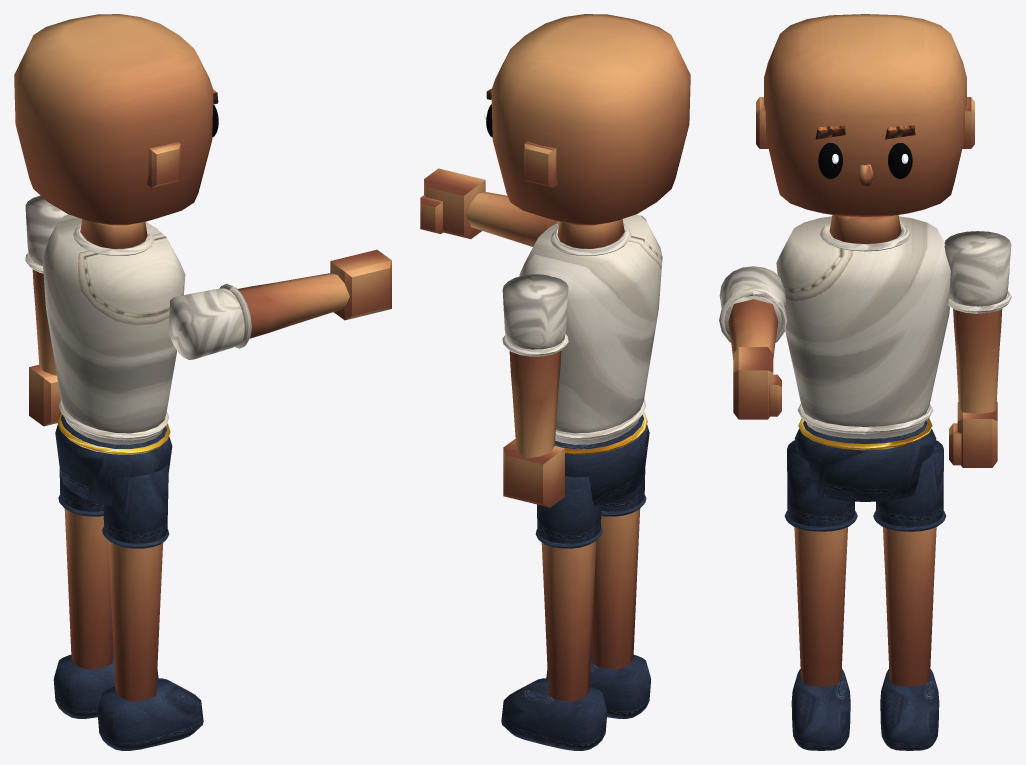
Rendered from body.glb.
3 renders of one model, left to right at view 1: azimuth 30°, elevation 25°; view 2: azimuth 150°, elevation 25°; view 3: azimuth 270°, elevation 25°, orthographic.
Parts seen in each view (by area): view 1: head, chest, leg_R, arm_R, leg_L, hips, foot_R, hand_R, arm_L, foot_L, hand_L; view 2: head, chest, leg_L, arm_L, leg_R, foot_L, hips, hand_R, hand_L, arm_R, foot_R; view 3: head, chest, leg_R, leg_L, arm_L, hips, arm_R, foot_L, foot_R, hand_R, hand_L.
Boxes of the visible parts, left/top/right/bottom form: head: left=14, top=14, right=218, bottom=225; chest: left=42, top=214, right=185, bottom=444; leg_R: left=102, top=464, right=169, bottom=701; arm_R: left=168, top=273, right=349, bottom=359; leg_L: left=58, top=469, right=113, bottom=669; hips: left=55, top=412, right=172, bottom=505; foot_R: left=97, top=678, right=203, bottom=750; hand_R: left=330, top=249, right=391, bottom=320; arm_L: left=25, top=195, right=67, bottom=375; foot_L: left=53, top=647, right=158, bottom=718; hand_L: left=29, top=365, right=60, bottom=426; head: left=483, top=14, right=690, bottom=225; chest: left=519, top=214, right=662, bottom=444; leg_L: left=535, top=476, right=602, bottom=701; arm_L: left=502, top=274, right=568, bottom=458; leg_R: left=591, top=468, right=646, bottom=669; foot_L: left=501, top=678, right=607, bottom=750; hips: left=554, top=413, right=649, bottom=505; hand_R: left=420, top=168, right=485, bottom=238; hand_L: left=503, top=439, right=564, bottom=507; arm_R: left=466, top=192, right=646, bottom=246; foot_R: left=546, top=649, right=650, bottom=718; head: left=756, top=14, right=974, bottom=216; chest: left=776, top=215, right=950, bottom=438; leg_R: left=784, top=440, right=857, bottom=686; leg_L: left=873, top=440, right=946, bottom=686; arm_L: left=944, top=231, right=1011, bottom=413; hips: left=794, top=418, right=936, bottom=501; arm_R: left=719, top=266, right=787, bottom=359; foot_L: left=880, top=669, right=939, bottom=750; foot_R: left=791, top=669, right=850, bottom=750; hand_R: left=733, top=347, right=781, bottom=419; hand_L: left=949, top=401, right=997, bottom=467.
Bounding box in the file's own units: 0.5823 × 1.29 × 0.496.
9 materials, 9 textured.
